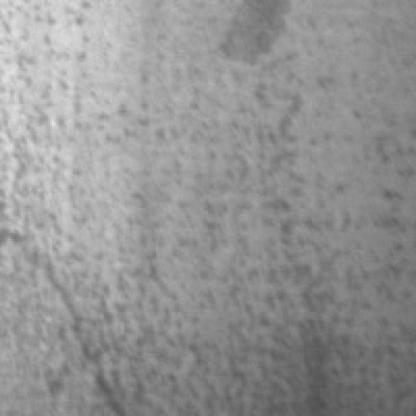pitted_surface: (23, 0, 412, 395)
